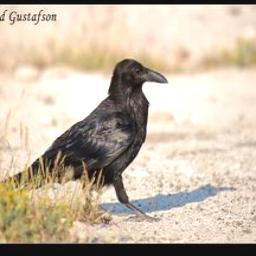Crow: (0, 57, 168, 224)
